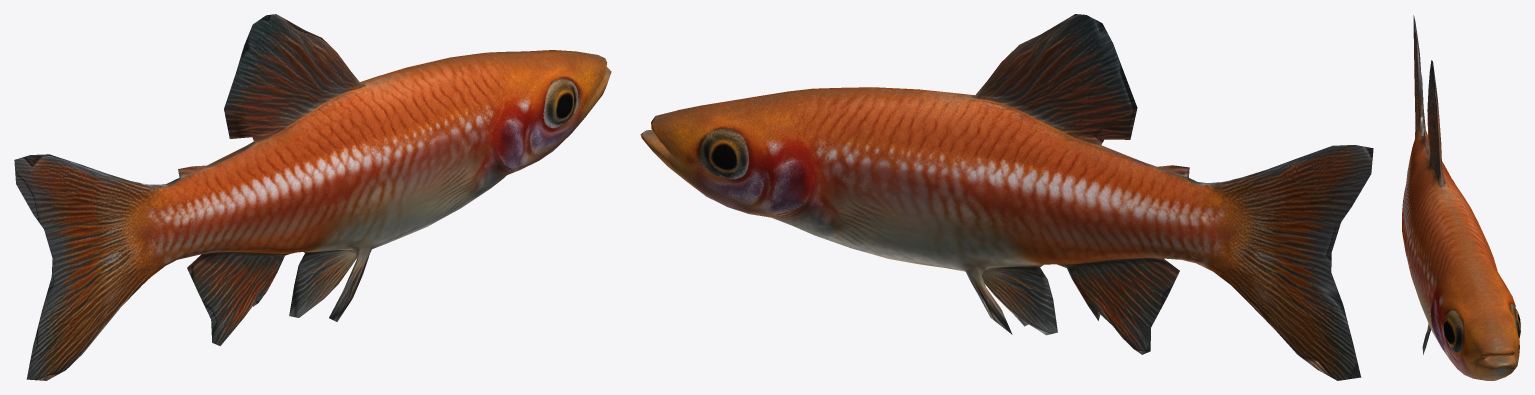
File: tropicalfish_a3_single_1500.glb
The picture shows the model from 3 angles, left to right: view 1: azimuth 30°, elevation 25°; view 2: azimuth 150°, elevation 25°; view 3: azimuth 270°, elevation 25°; orthographic projection. The views are drawn at different scales.
Bounding box in the file's own units: 0.9217 × 0.4336 × 0.1747.
1 material, 1 textured.
